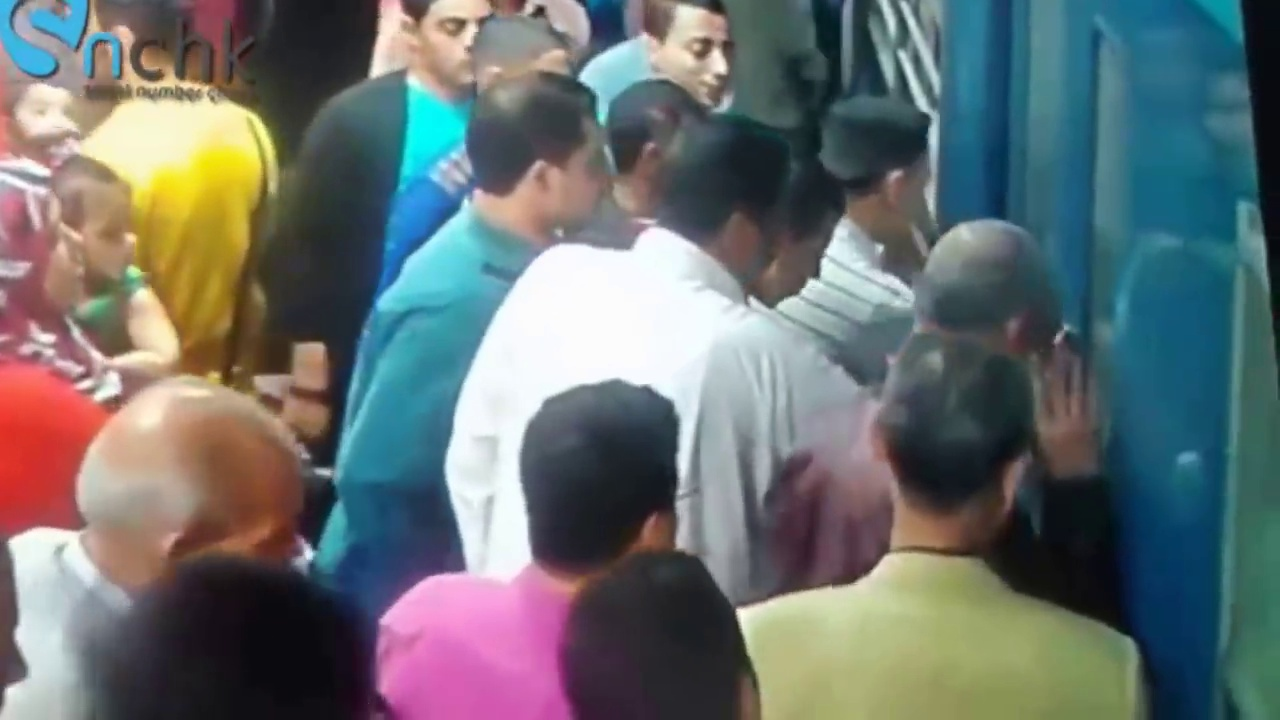face: (668, 12, 737, 104), (551, 138, 616, 218), (417, 8, 480, 86)
